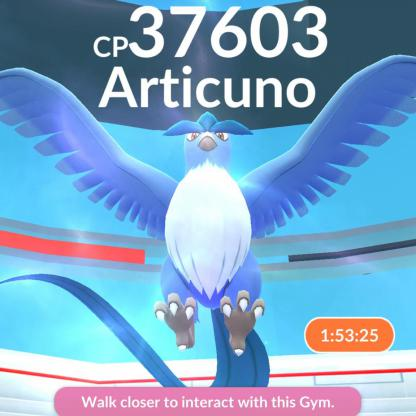Articuno: (3, 1, 416, 416)
